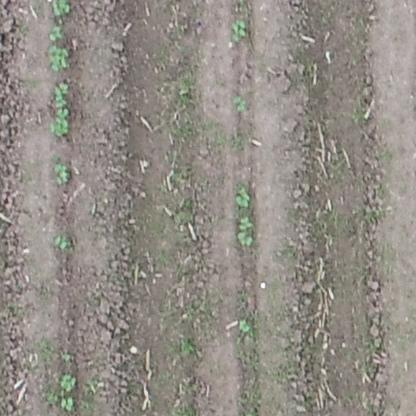vc: (47, 45, 71, 72), (51, 109, 71, 138), (233, 184, 254, 210), (229, 18, 249, 44), (51, 81, 71, 105), (53, 163, 72, 186), (58, 373, 79, 391), (234, 233, 256, 249), (54, 233, 71, 251), (47, 24, 64, 41), (237, 214, 253, 231), (50, 2, 71, 14), (237, 318, 252, 334), (233, 95, 247, 112), (59, 397, 75, 411), (62, 352, 74, 361)
